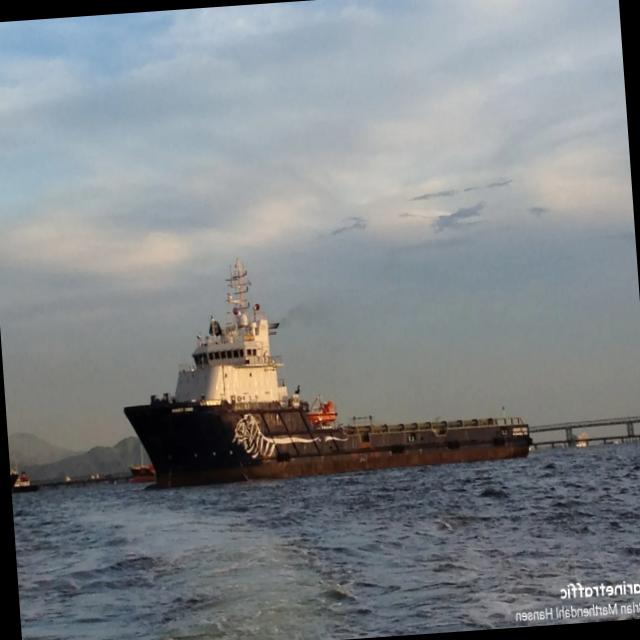Offshore: (123, 260, 531, 488)
